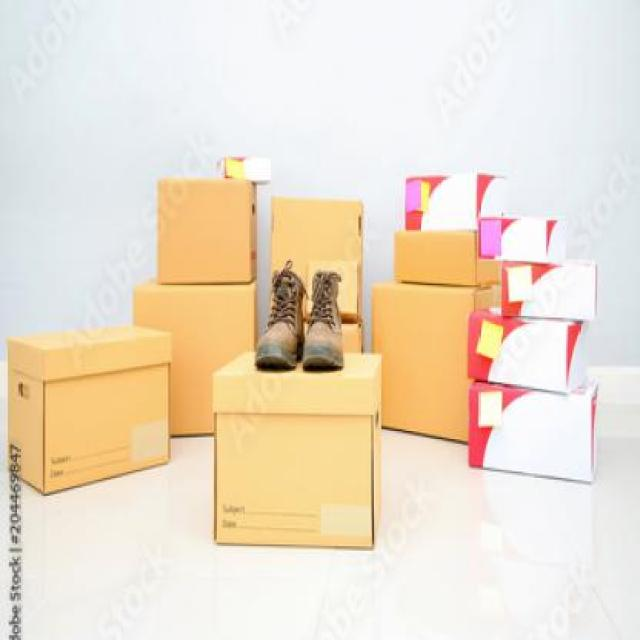box: (201, 336, 394, 562), (2, 314, 178, 507), (128, 274, 264, 462), (363, 273, 475, 454), (148, 145, 269, 302), (462, 364, 606, 490), (387, 164, 511, 296), (264, 175, 368, 331), (460, 300, 589, 402), (485, 238, 621, 324), (470, 194, 578, 280)
